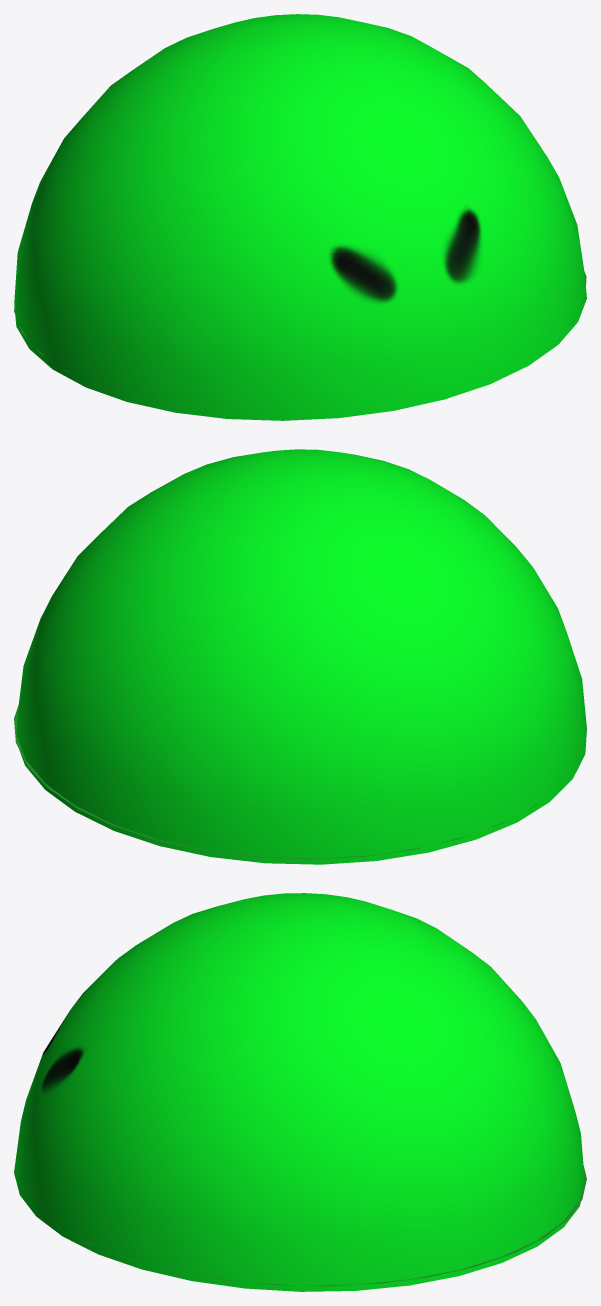
File: WoodlandCreature.fbx
3 renders of one model, top to bottom at view 1: azimuth 30°, elevation 25°; view 2: azimuth 150°, elevation 25°; view 3: azimuth 270°, elevation 25°, orthographic.
Parts seen in each view (by area): view 1: Sphere; view 2: Sphere, Circle; view 3: Sphere, Circle.
Part boxes in pixels (x1,y1,x2,y2): Sphere: [14, 14, 586, 420]; Sphere: [16, 449, 586, 864]; Circle: [14, 705, 585, 859]; Sphere: [14, 893, 584, 1291]; Circle: [58, 1166, 586, 1286].
Size of the model in its own units: 200 by 201 by 104.
2 materials, 2 textured.
